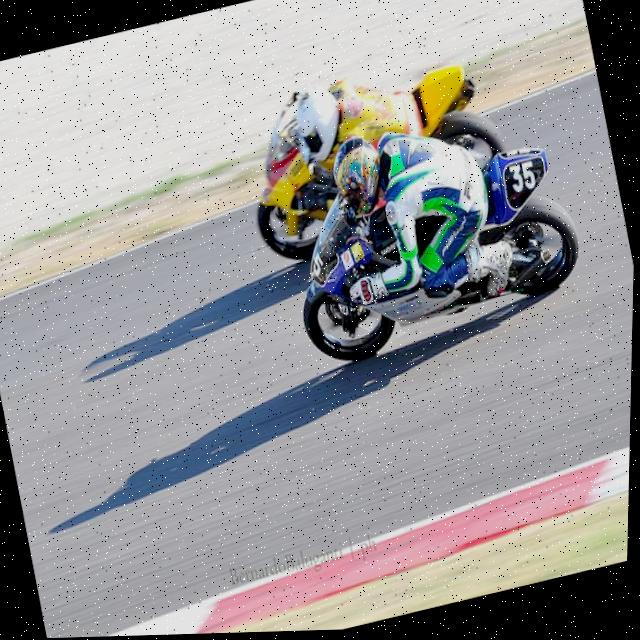motorcycle: (253, 83, 582, 386)
